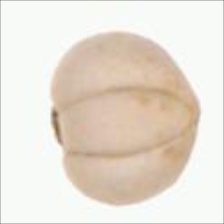L5: (62, 85, 195, 159), (46, 91, 72, 170), (188, 82, 204, 160)
L6: (46, 28, 203, 208)
